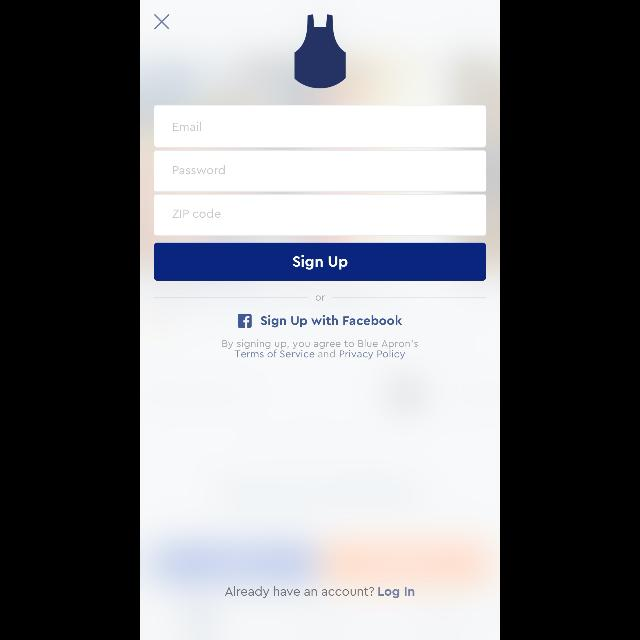icon: (154, 15, 170, 30), (238, 314, 252, 328)
image: (294, 15, 346, 89)
input: (154, 194, 486, 236), (154, 150, 486, 192), (154, 106, 486, 148)
text: (222, 339, 418, 359), (226, 586, 414, 598), (260, 315, 402, 327), (173, 208, 221, 218), (173, 166, 225, 174), (173, 122, 200, 130), (316, 296, 324, 300)
textbutton: (154, 243, 486, 281)
